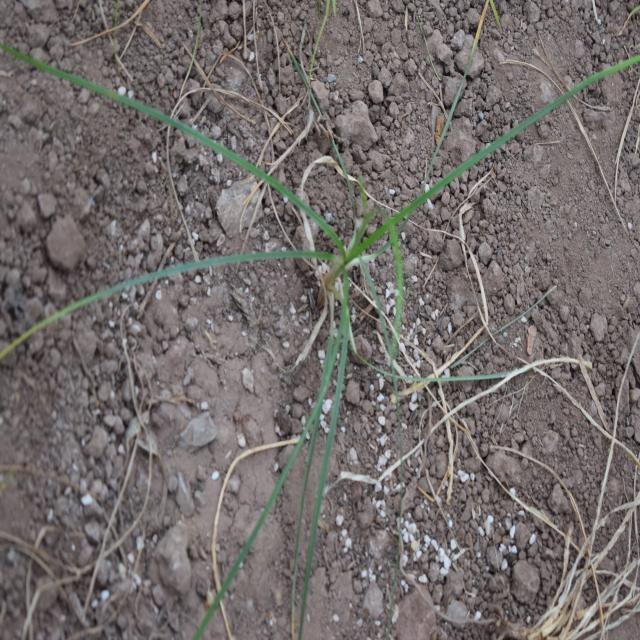sedge: (156, 80, 489, 571)
